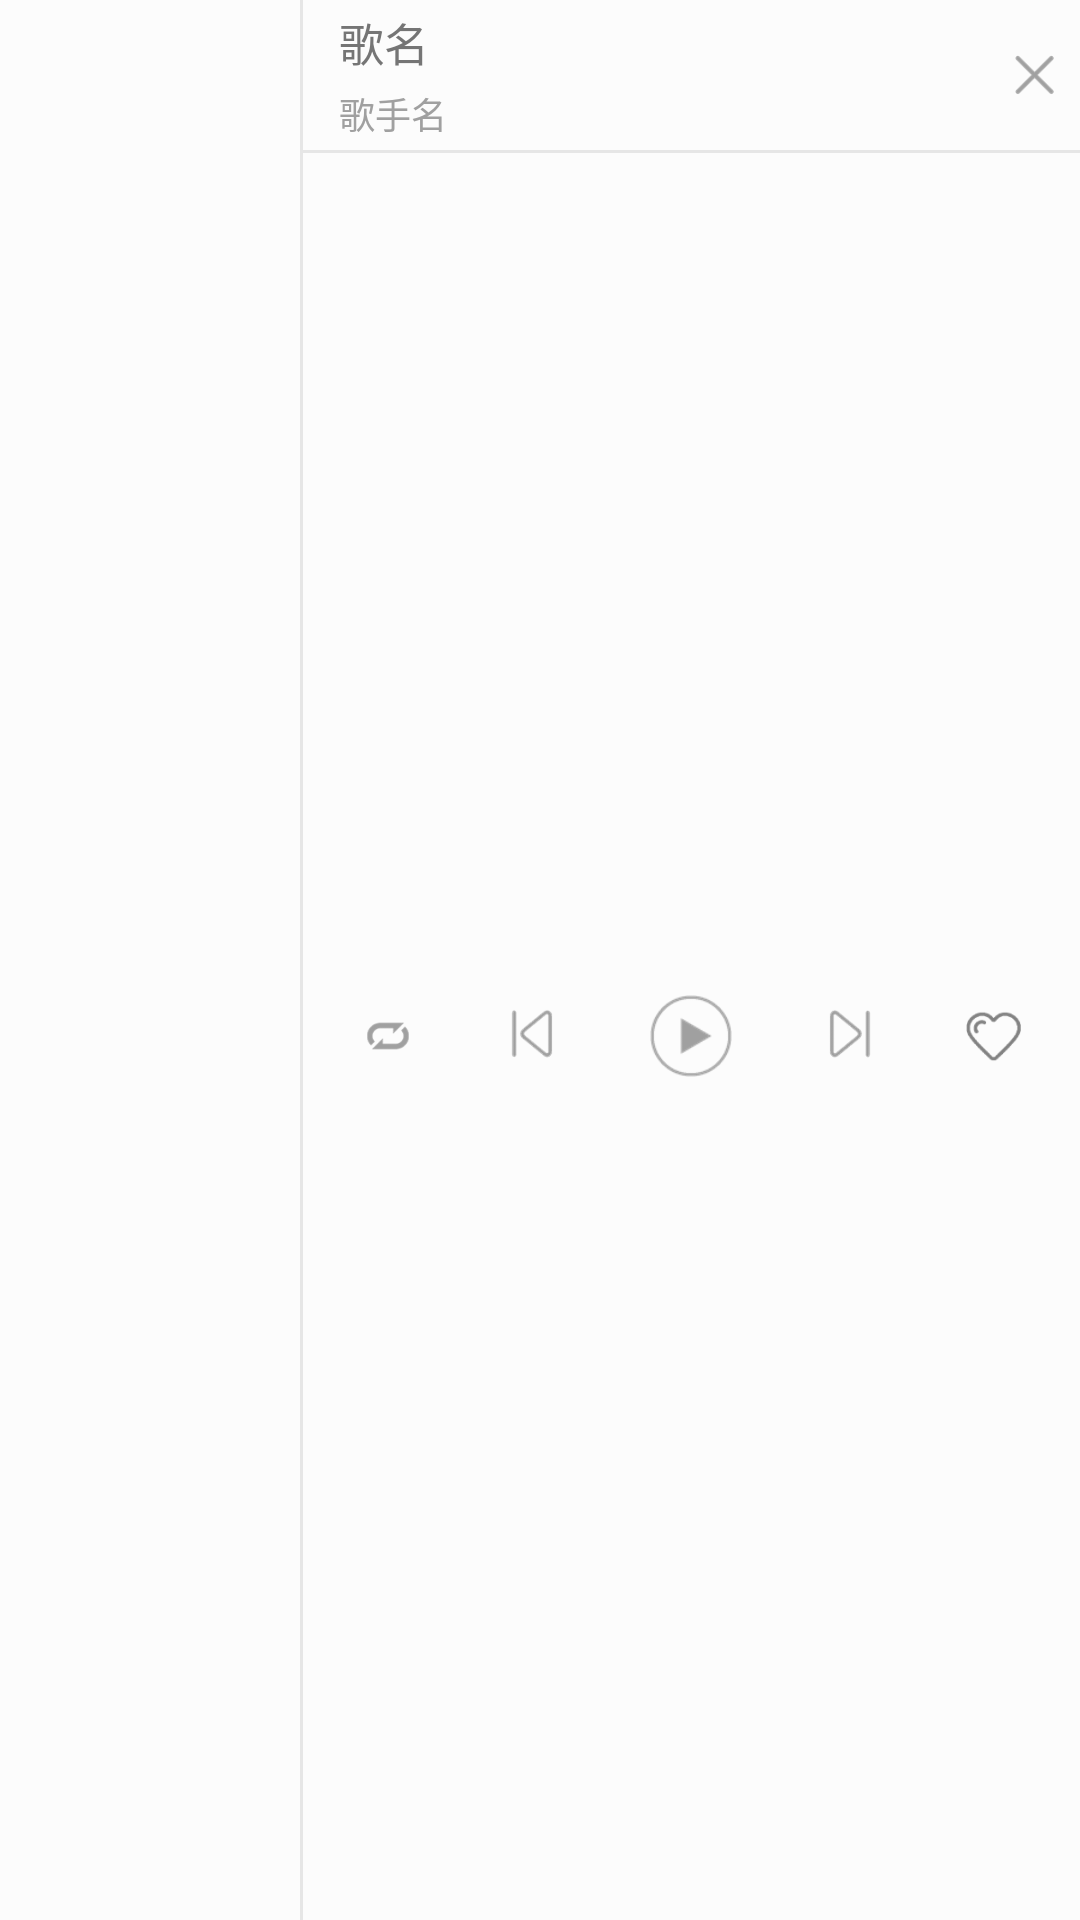

Named icons in this screenshot (1080 × 1920) and their bounding boxes, (x1, y1, x2, y2):
notification close: (1015, 56, 1054, 94)
notification music play last: (512, 1010, 552, 1057)
notification music play next: (830, 1010, 870, 1057)
notification music play not: (651, 996, 731, 1076)
